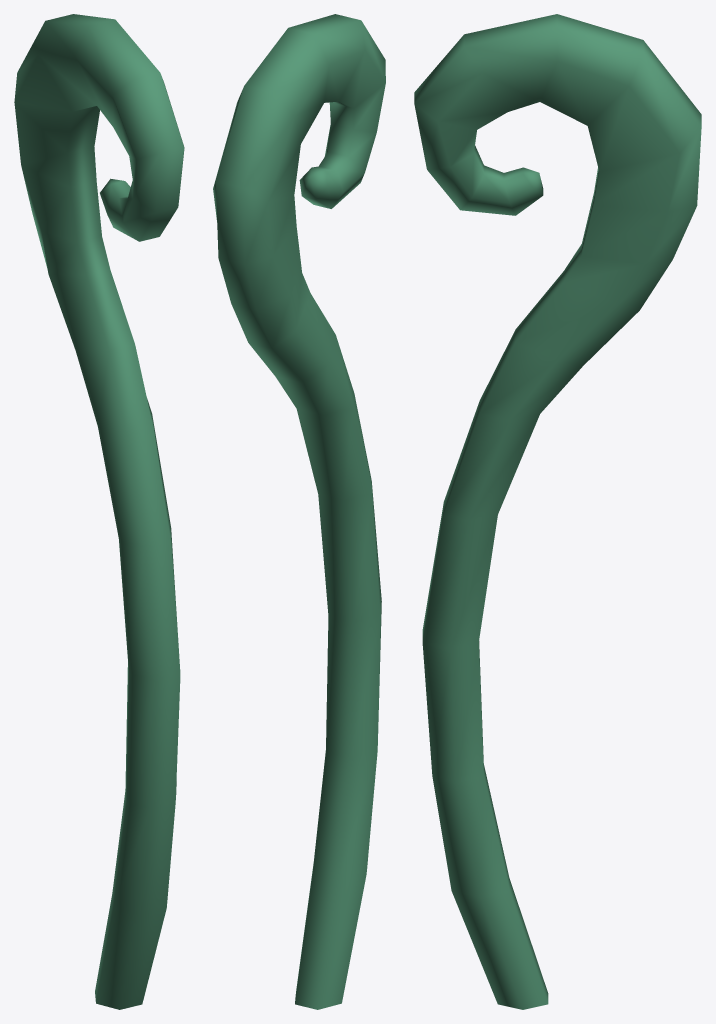
File: leaf_ivyB.fbx
The picture shows the model from 3 angles, left to right: view 1: azimuth 30°, elevation 25°; view 2: azimuth 150°, elevation 25°; view 3: azimuth 270°, elevation 25°; orthographic projection.
Parts seen in each view (by area): view 1: leaf_ivyB_full; view 2: leaf_ivyB_full; view 3: leaf_ivyB_full.
Part boxes in pixels (x1,y1,x2,y2): leaf_ivyB_full: [14, 14, 184, 1009]; leaf_ivyB_full: [213, 14, 385, 1009]; leaf_ivyB_full: [414, 14, 701, 1009].
Size of the model in its own units: 0.0182 by 0.297 by 0.079.
